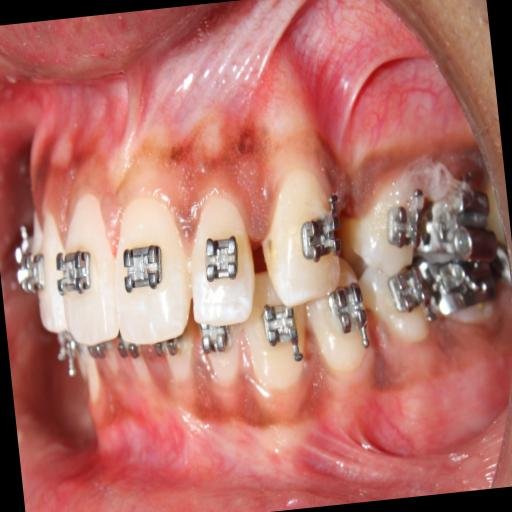correct_brace: (114, 236, 172, 302), (52, 236, 99, 307), (294, 206, 344, 268), (198, 229, 250, 288)
incorrect_brace: (184, 184, 262, 334)
